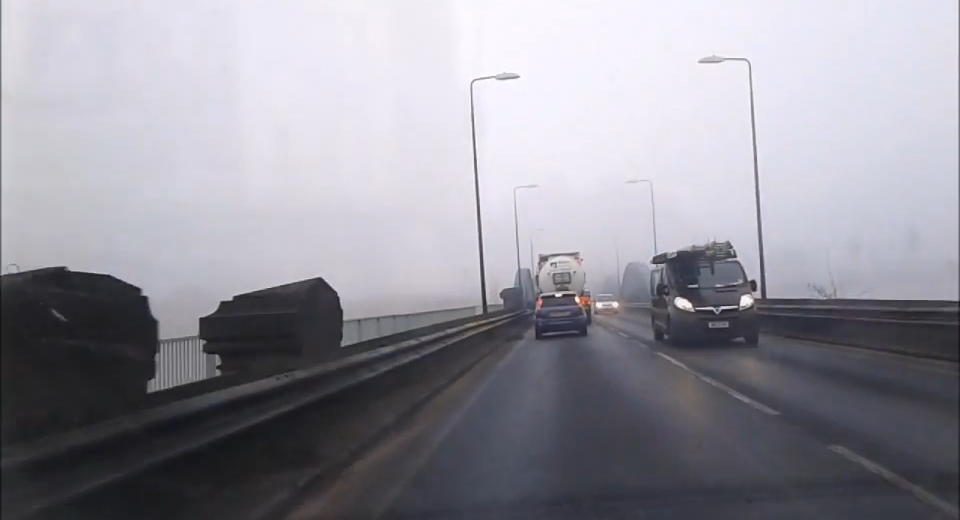bus: (646, 242, 761, 349)
car: (531, 291, 587, 340), (593, 292, 622, 314)
